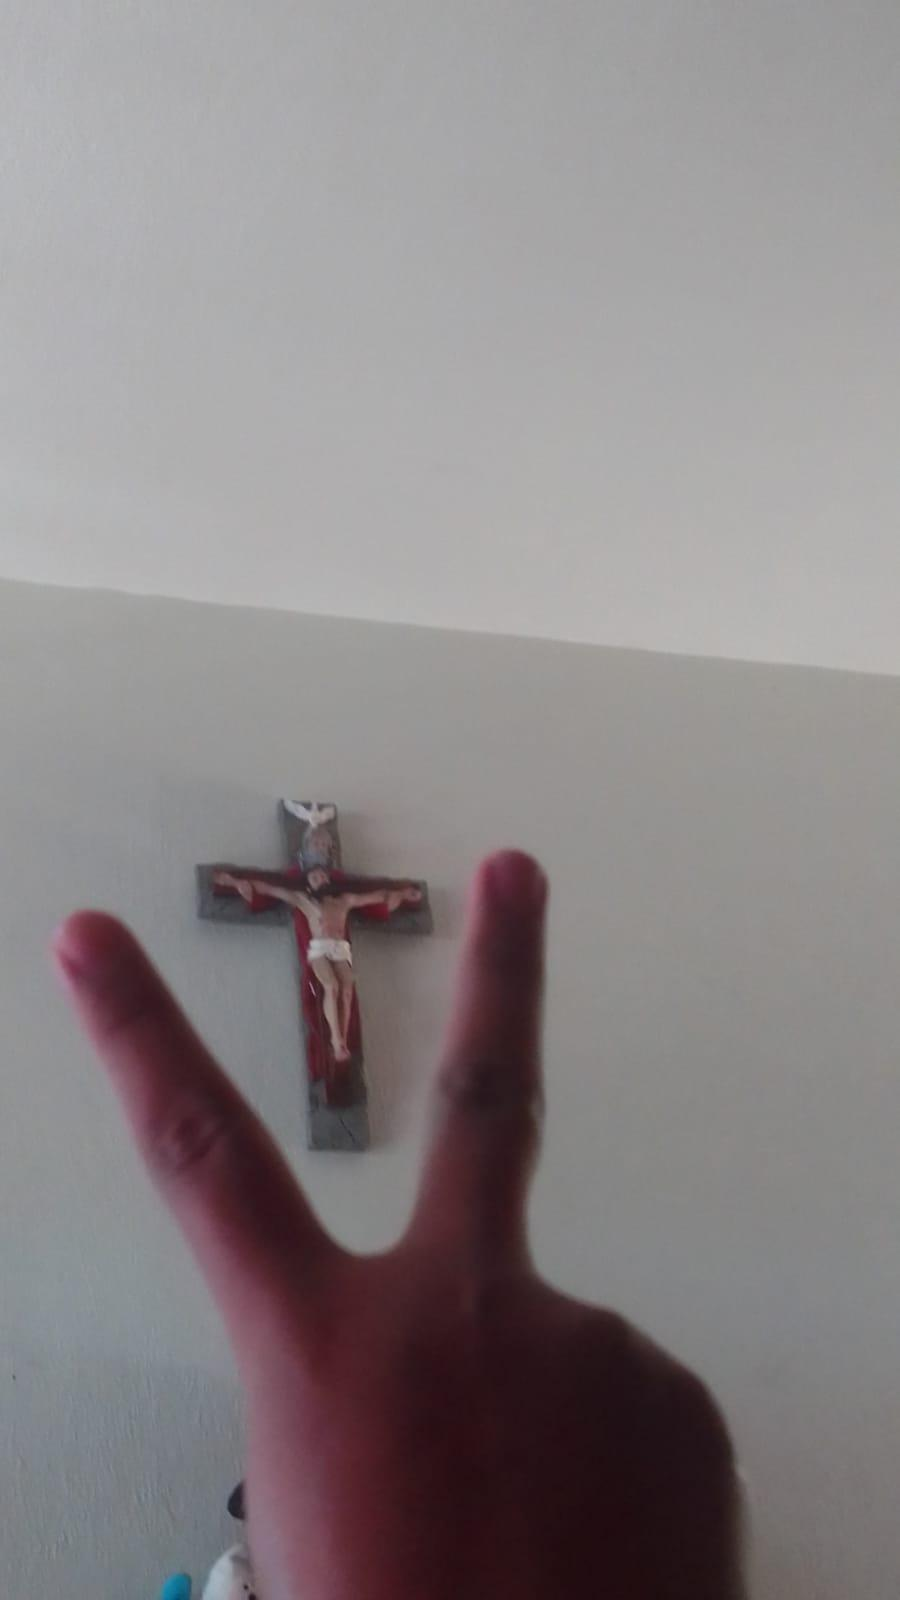Scissor: (34, 820, 777, 1600)
